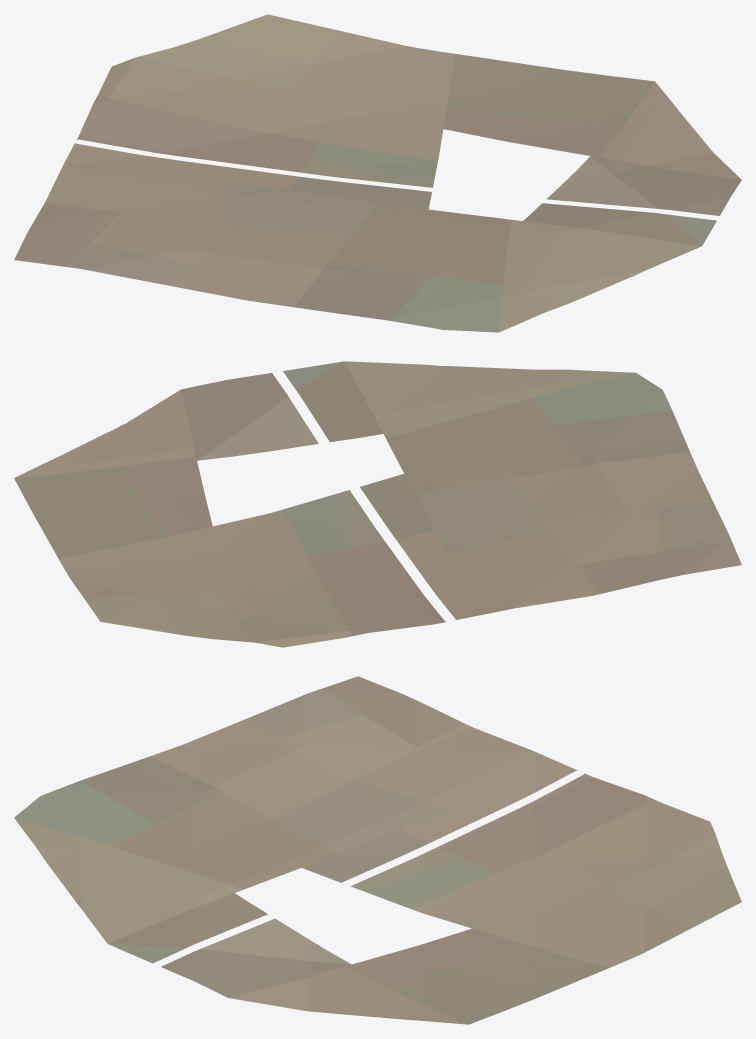
File: farm_-5_-7_soil.glb
3 views of the same model, one above another, from view 1: azimuth 30°, elevation 25°; view 2: azimuth 150°, elevation 25°; view 3: azimuth 270°, elevation 25° (orthographic). The views are drawn at different scales.
Visible parts, largest first — view 1: geometry_0; view 2: geometry_0; view 3: geometry_0.
Boxes of the visible parts, x1=… form: geometry_0: x1=14, y1=14, x2=741, y2=332; geometry_0: x1=14, y1=361, x2=741, y2=647; geometry_0: x1=14, y1=676, x2=741, y2=1024.
Bounding box in the file's own units: 529 × 27.25 × 517.
